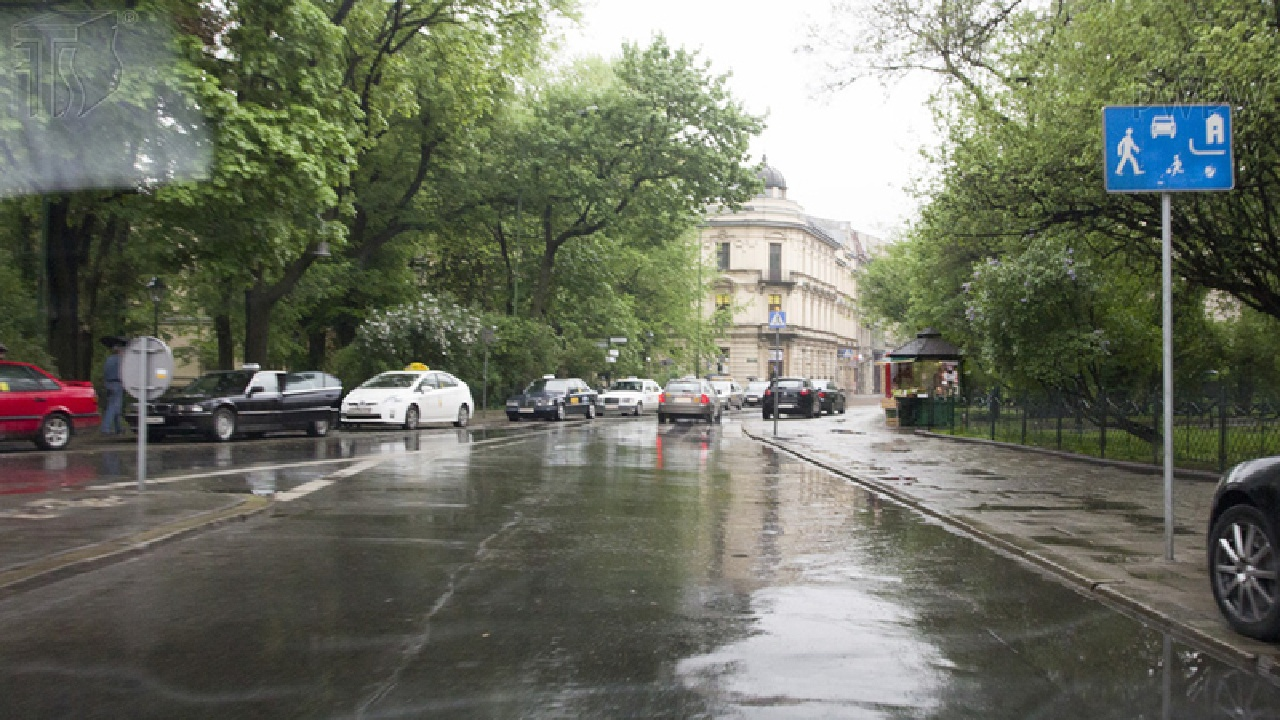D40: (1103, 103, 1233, 194)
